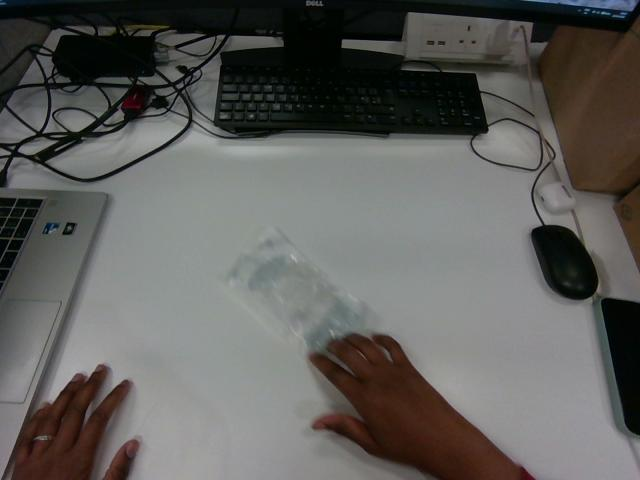gallipot: (226, 227, 370, 351)
